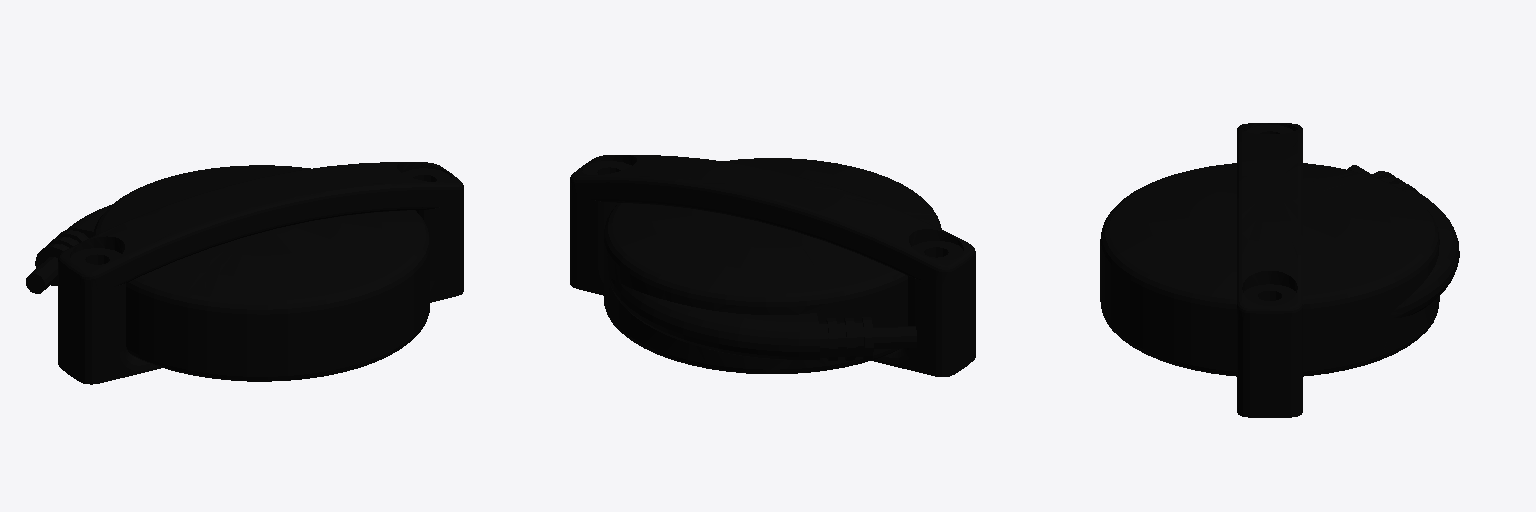
File: garmin_18x_lvc_gps.obj
3 views of the same model, side by side, from view 1: azimuth 30°, elevation 25°; view 2: azimuth 150°, elevation 25°; view 3: azimuth 270°, elevation 25° (orthographic).
Parts seen in each view (by area): view 1: Garmin_18X_Lvc_Gps_Garmin 18X Lvc Gps; view 2: Garmin_18X_Lvc_Gps_Garmin 18X Lvc Gps; view 3: Garmin_18X_Lvc_Gps_Garmin 18X Lvc Gps.
Boxes of the visible parts, x1,y1,x2,y2 form: Garmin_18X_Lvc_Gps_Garmin 18X Lvc Gps: [26, 162, 463, 384]; Garmin_18X_Lvc_Gps_Garmin 18X Lvc Gps: [570, 155, 975, 376]; Garmin_18X_Lvc_Gps_Garmin 18X Lvc Gps: [1100, 123, 1459, 417].
Bounding box in the file's own units: 0.08 × 0.0272 × 0.0647.